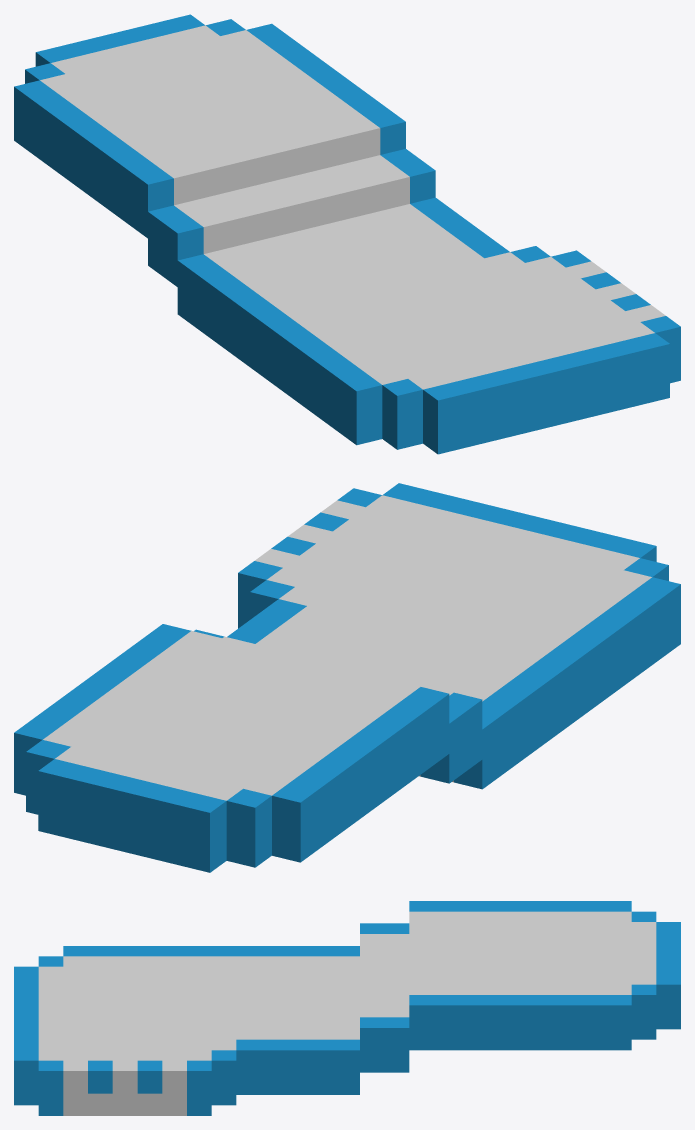
Rendered from PlatformLeftUp.fbx.
3 views of the same model, one above another, from view 1: azimuth 30°, elevation 25°; view 2: azimuth 150°, elevation 25°; view 3: azimuth 270°, elevation 25° (orthographic). The views are drawn at different scales.
Visible parts, largest first — view 1: Matrix_15; view 2: Matrix_15; view 3: Matrix_15.
Boxes of the visible parts, x1,y1,x2,y2 form: Matrix_15: (14, 14, 680, 454); Matrix_15: (14, 483, 680, 872); Matrix_15: (14, 901, 680, 1115).
Size of the model in its own units: 12 by 4 by 27.
